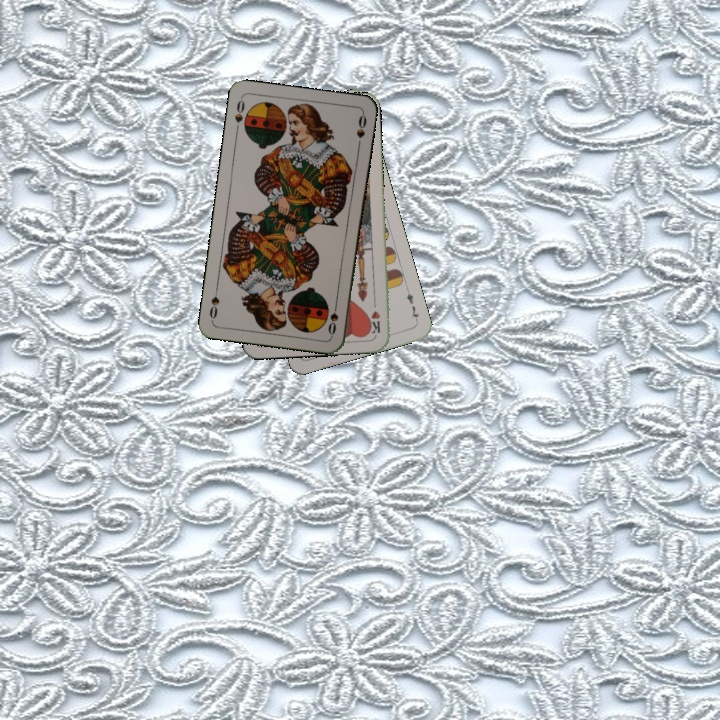E7: (402, 285, 422, 325)
HK: (366, 296, 383, 336)
SO: (324, 297, 341, 338), (231, 94, 247, 135)
